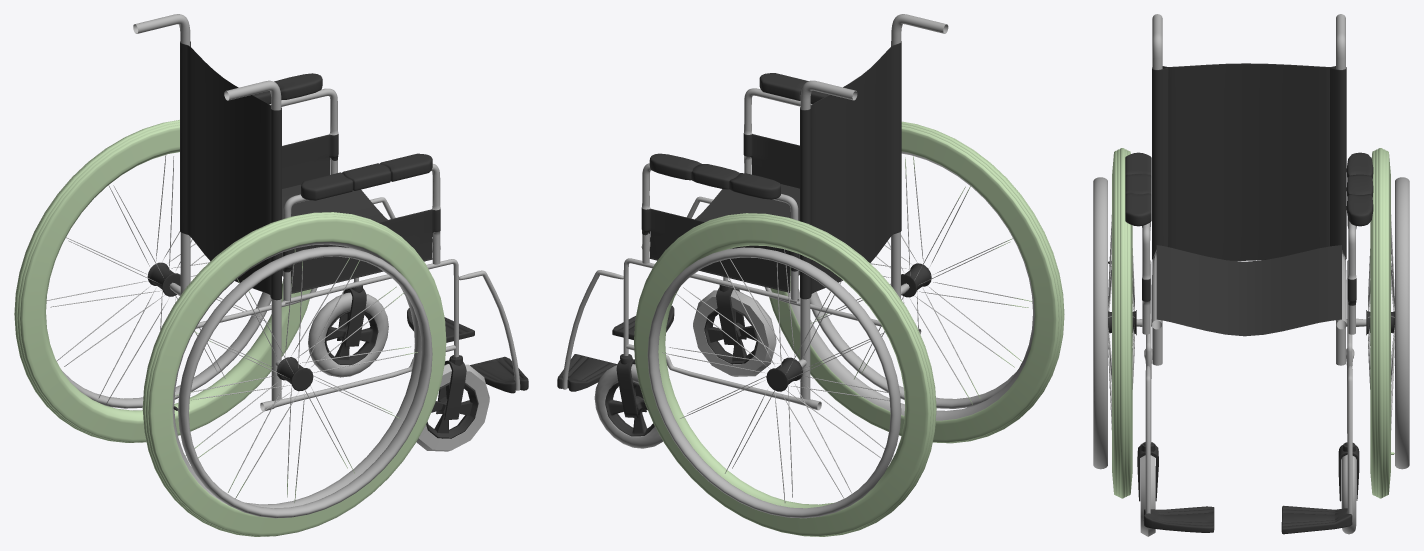
Rendered from Wheelchair 1.FBX.
3 views of the same model, side by side, from view 1: azimuth 30°, elevation 25°; view 2: azimuth 150°, elevation 25°; view 3: azimuth 270°, elevation 25° (orthographic).
Visible parts, largest first — view 1: Chairs, Little wheel Right, Little wheels left, Little wheel left, Little wheel right; view 2: Chairs, Little wheels left, Little wheel Right, Little wheel right, Little wheel left; view 3: Chairs, Little wheels left, Little wheel Right, Little wheel right, Little wheel left.
Part boxes in pixels (box(x1,y1,x2,y2)): Chairs: box(133, 14, 528, 411); Little wheel Right: box(142, 212, 446, 536); Little wheels left: box(14, 120, 311, 442); Little wheel left: box(308, 282, 388, 377); Little wheel right: box(416, 355, 489, 451); Chairs: box(557, 14, 948, 410); Little wheels left: box(634, 213, 936, 536); Little wheel Right: box(769, 121, 1064, 443); Little wheel right: box(693, 281, 776, 376); Little wheel left: box(594, 354, 662, 448); Chairs: box(1125, 14, 1373, 534); Little wheels left: box(1366, 148, 1409, 498); Little wheel Right: box(1093, 148, 1136, 498); Little wheel right: box(1137, 442, 1158, 536); Little wheel left: box(1338, 442, 1359, 534).
Size of the model in its own units: 108 by 111 by 71.56.
